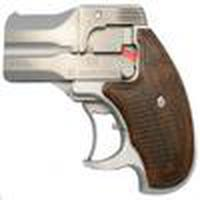gun: (1, 3, 197, 188)
